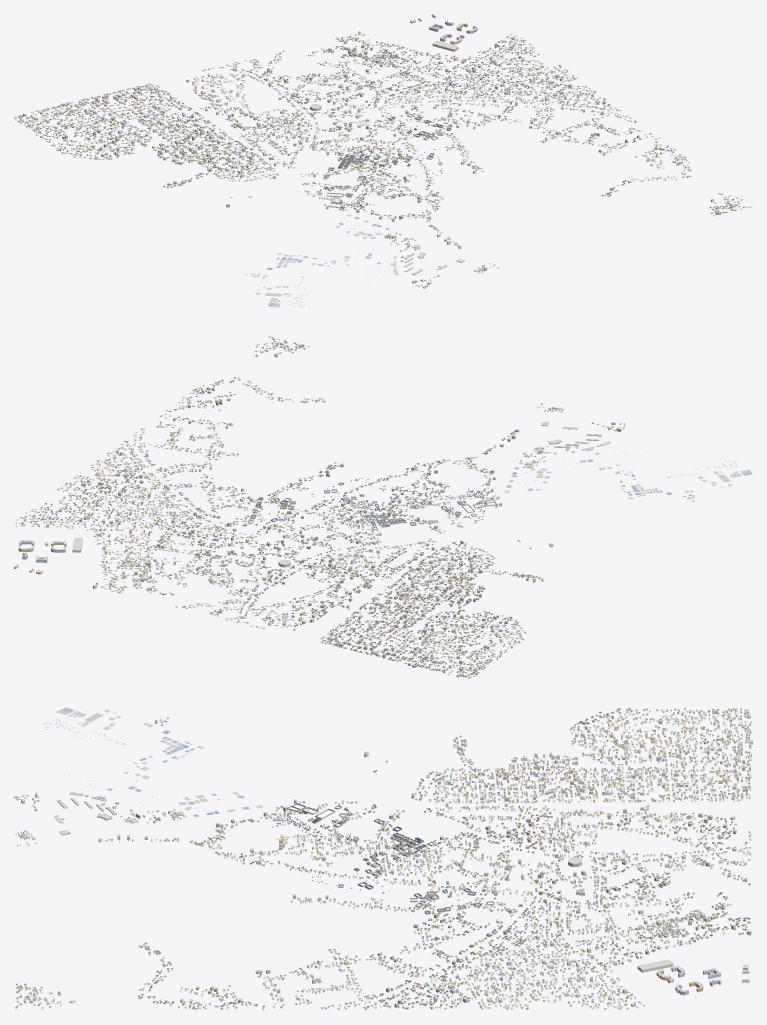
3 renders of one model, top to bottom at view 1: azimuth 30°, elevation 25°; view 2: azimuth 150°, elevation 25°; view 3: azimuth 270°, elevation 25°, orthographic. The views are drawn at different scales.
Parts seen in each view (by area): view 1: house, roof_zinc, apartment, roof_flat, factory; view 2: house, roof_zinc, apartment, roof_flat, factory; view 3: house, roof_zinc, apartment, roof_flat, factory.
Part boxes in pixels (bbox=[...]): house: bbox=[14, 33, 751, 281]; roof_zinc: bbox=[16, 33, 752, 307]; apartment: bbox=[23, 14, 713, 288]; roof_flat: bbox=[24, 14, 713, 287]; factory: bbox=[316, 114, 451, 208]; house: bbox=[15, 336, 694, 678]; roof_zinc: bbox=[14, 336, 752, 678]; apartment: bbox=[14, 353, 625, 677]; roof_flat: bbox=[14, 353, 625, 675]; factory: bbox=[248, 477, 496, 529]; house: bbox=[15, 708, 751, 1009]; roof_zinc: bbox=[15, 707, 751, 1010]; apartment: bbox=[14, 710, 752, 1007]; roof_flat: bbox=[14, 710, 752, 1004]; factory: bbox=[272, 803, 494, 914].
Bounding box in the file's own units: 1.41e+08 × 725987 × 1.45e+08.
